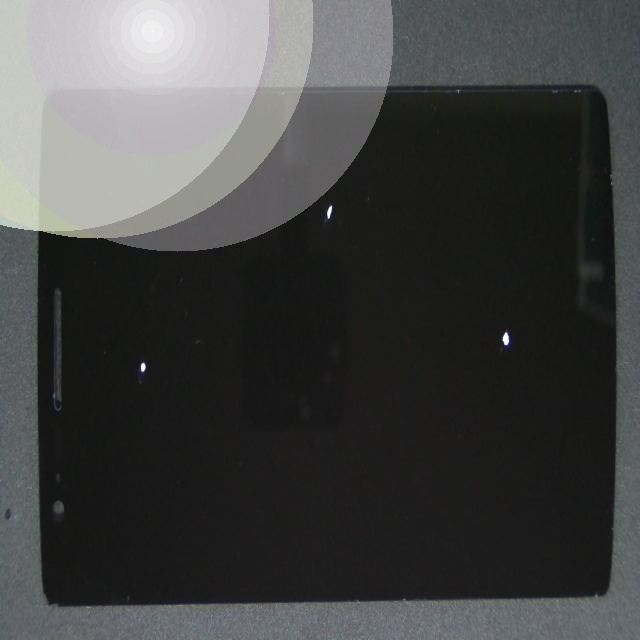stain: (269, 146, 640, 466), (172, 70, 486, 289), (52, 147, 190, 544)
